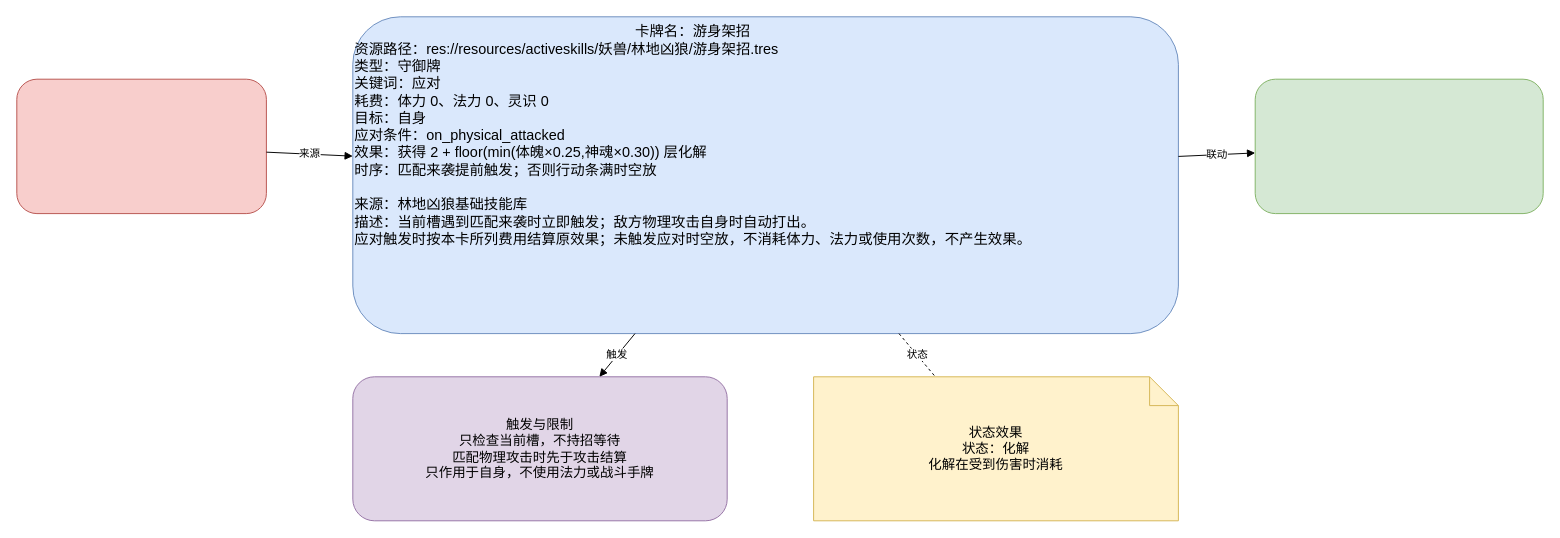
Some shapes in this 1560 by 538 pixel diagram are drawn without their labels. The centre of each missing label's shape, as x and y in pixels:
来源/前置 来源分类：妖兽技能 来源兽种：林地凶狼 基础技能库：林地凶狼 前置：无: point 141,146
群猎联动 响应本身不触发逐猎；仅主动攻击结算后触发群猎本能: point 1398,146
